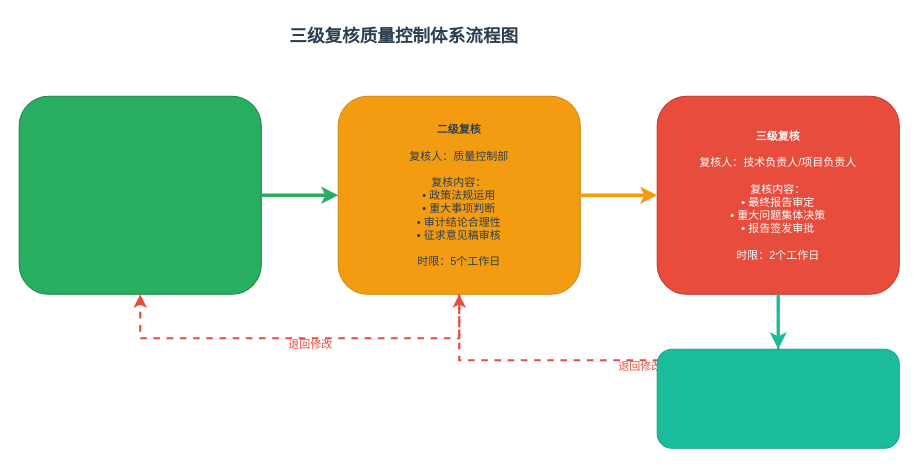
Image size: 919x468. Some labels were removed from this diagram. The centre of each missing label's shape, as x and y in pixels:
"一级复核 复核人：项目组内交叉复核 复核内容： • 底稿完整性检查 • 数据准确性核对 • 证据充分性判断 时限：3个工作日" goes at (139,194).
"最终输出 ✅ 经三级复核合格的 审核报告正式出具 ✅ 工作底稿归档 ✅ 成果交付委托方" goes at (777,398).
